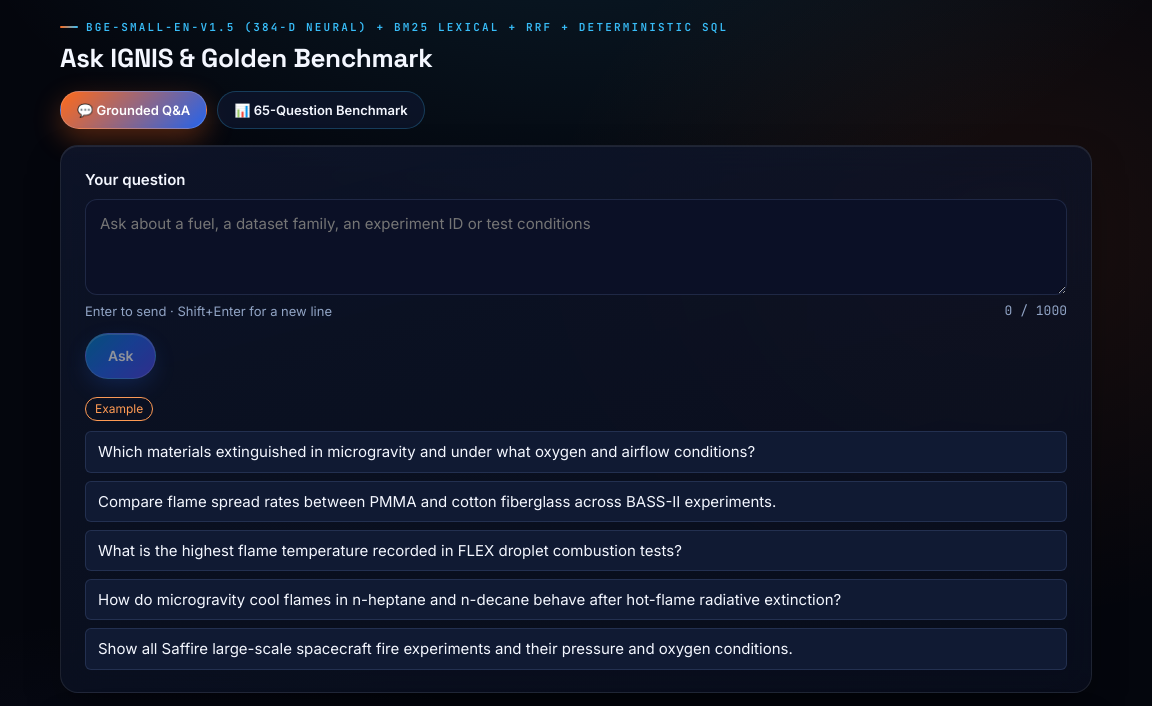
Test: App › shows the request id on a server error and retries
The image size is (1152, 706).
Replace the text in the text box labelled "Your question" with "q". click: (576, 247)
box: left=85, top=199, right=1067, bottom=295
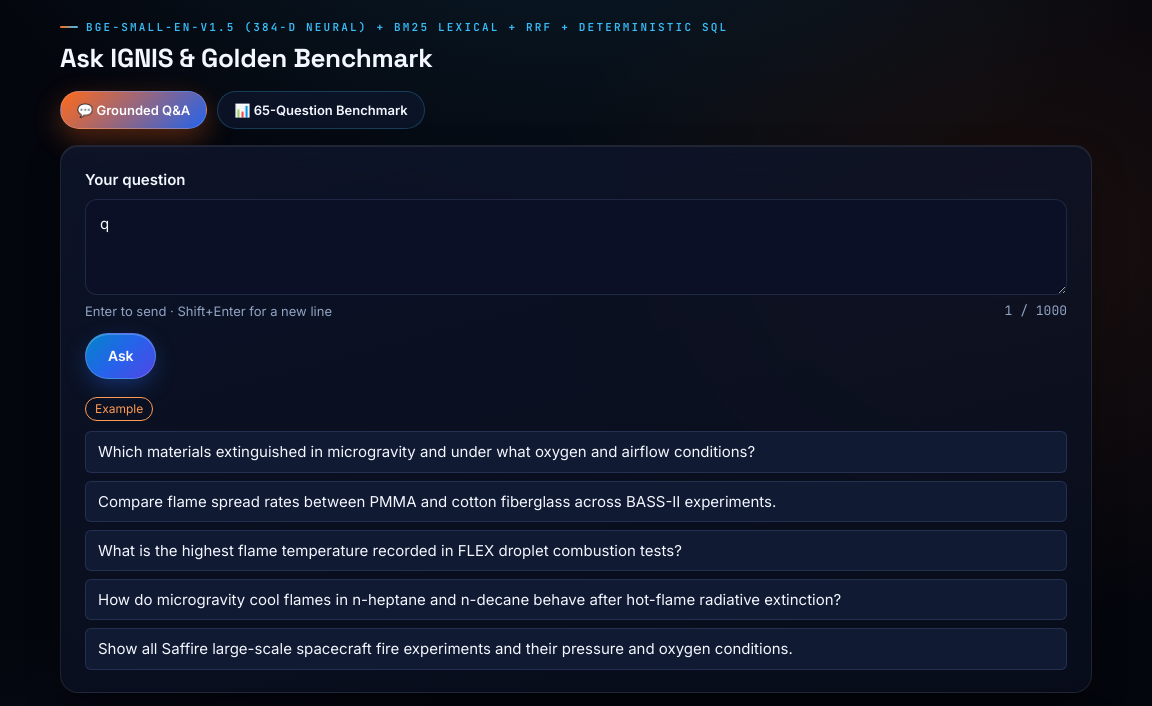
Click the button "Ask". click: (121, 356)
box: left=85, top=333, right=156, bottom=379
(page scrolled)
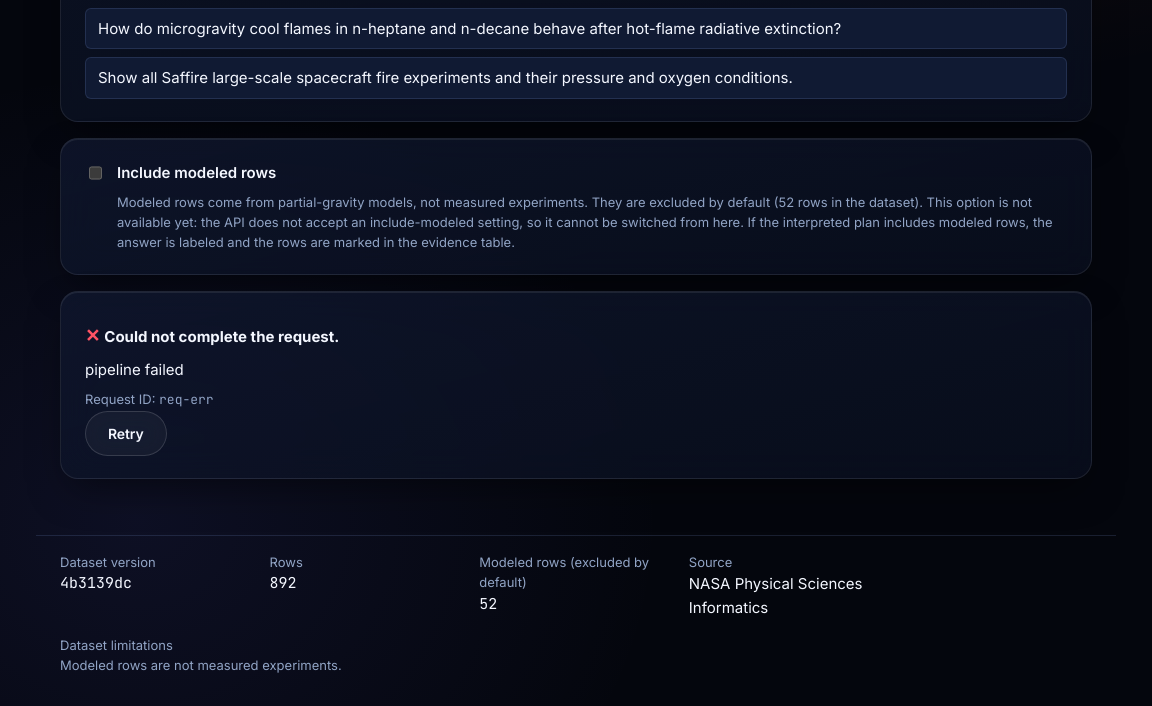
Expected: the text "req-err" is shown, left=159, top=391, right=214, bottom=408
Click the button "Retry". click: (126, 433)
box: left=85, top=411, right=166, bottom=456
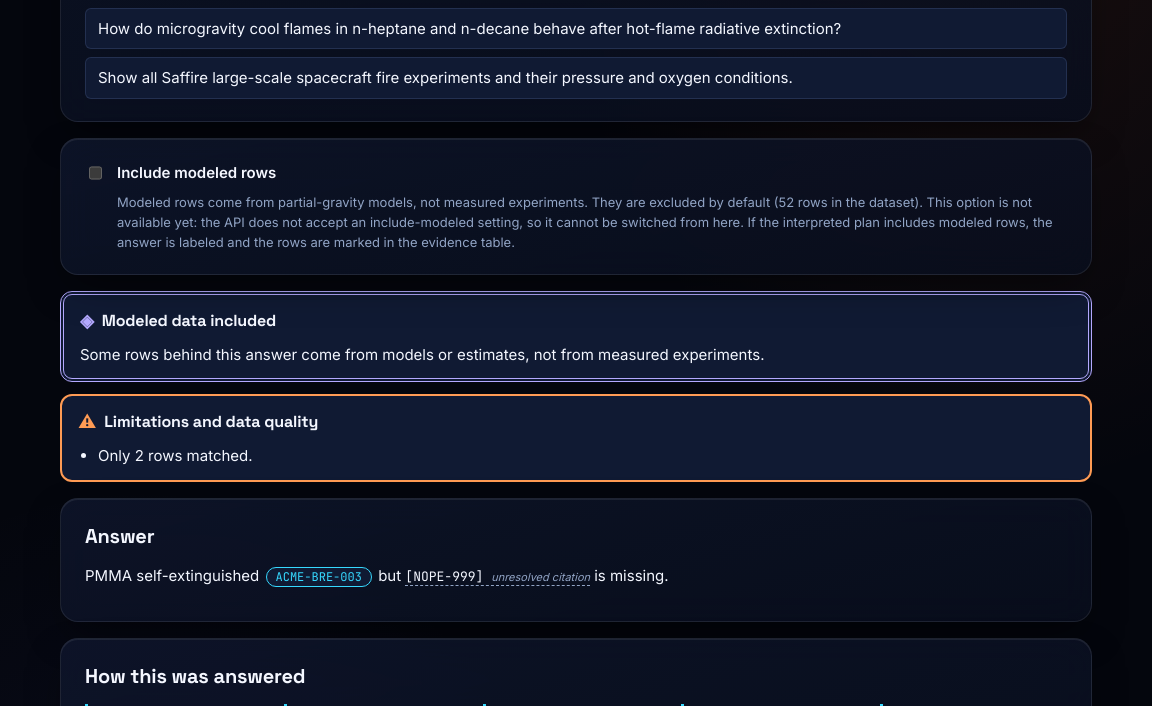
Expected: the button with aria-label "Citation ACME-BRE-003" is shown, left=266, top=567, right=372, bottom=587
